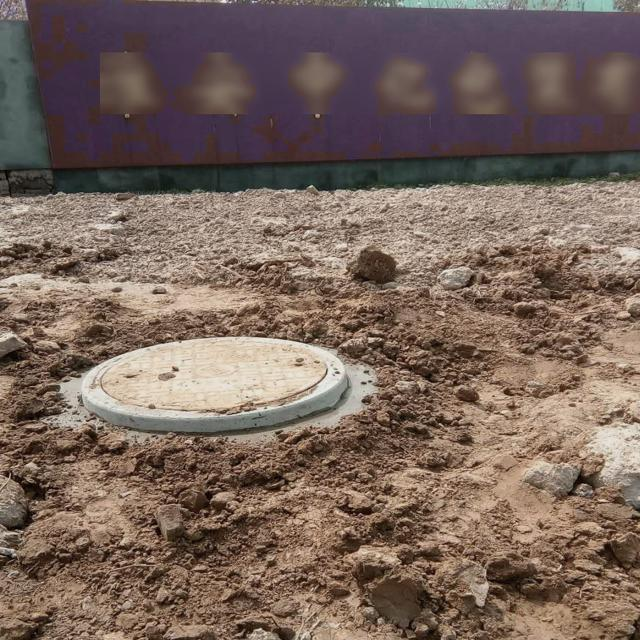good: (78, 330, 370, 420)
